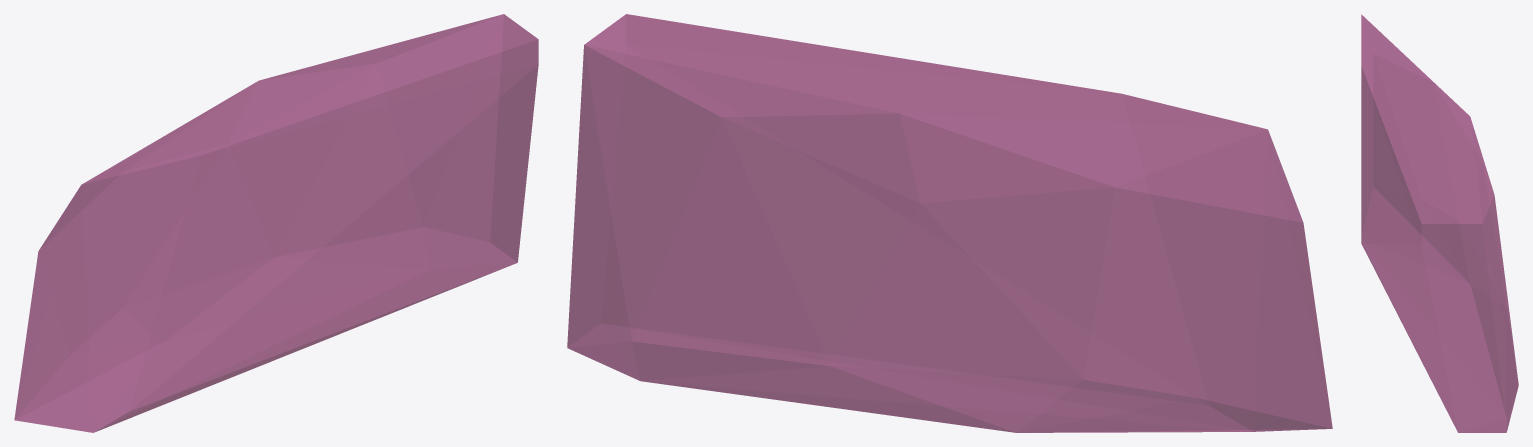
3 views of the same model, side by side, from view 1: azimuth 30°, elevation 25°; view 2: azimuth 150°, elevation 25°; view 3: azimuth 270°, elevation 25° (orthographic). The views are drawn at different scales.
Visible parts, largest first — view 1: Shape_IndexedFaceSet.007_Shape_IndexedFaceSet.5683; view 2: Shape_IndexedFaceSet.007_Shape_IndexedFaceSet.5683; view 3: Shape_IndexedFaceSet.007_Shape_IndexedFaceSet.5683.
Boxes of the visible parts, box(x1,y1,x2,y2) form: Shape_IndexedFaceSet.007_Shape_IndexedFaceSet.5683: box(14, 14, 538, 432); Shape_IndexedFaceSet.007_Shape_IndexedFaceSet.5683: box(567, 14, 1332, 432); Shape_IndexedFaceSet.007_Shape_IndexedFaceSet.5683: box(1361, 14, 1518, 432).
Size of the model in its own units: 0.1453 by 0.0632 by 0.041.
